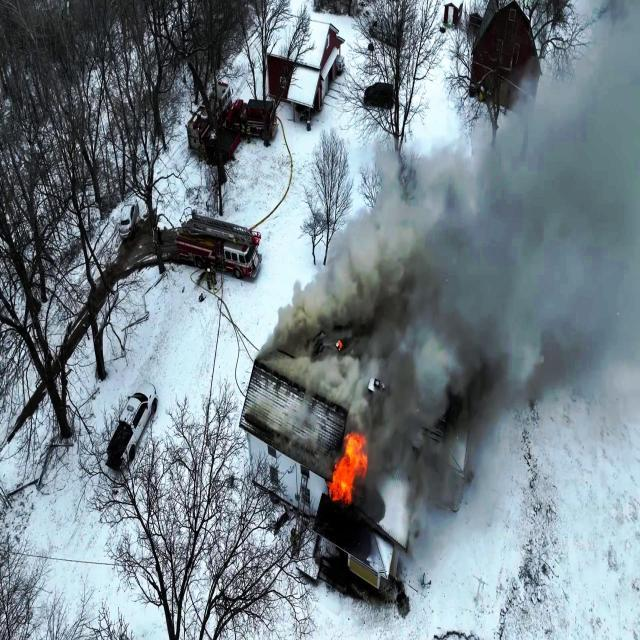Fire: (327, 425, 367, 512)
Smoke: (399, 231, 482, 382)
